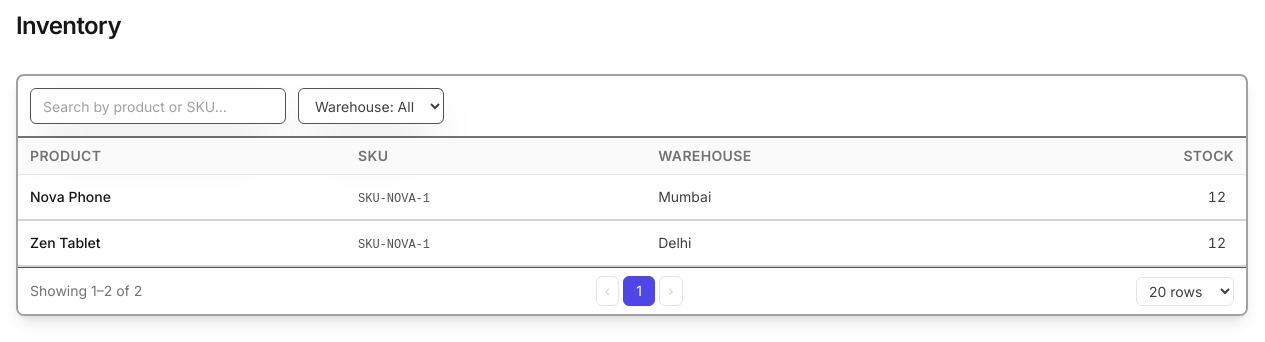
it: InventoryPage › filters by warehouse
The image size is (1265, 342).
Expected: the text "Nova Phone" is shown, x1=30 y1=188 x2=111 y2=205
Select "Delhi" in the 1st dropdown named "Warehouse" at {"x": 371, "y": 106}, box x1=298 y1=88 x2=444 y2=124
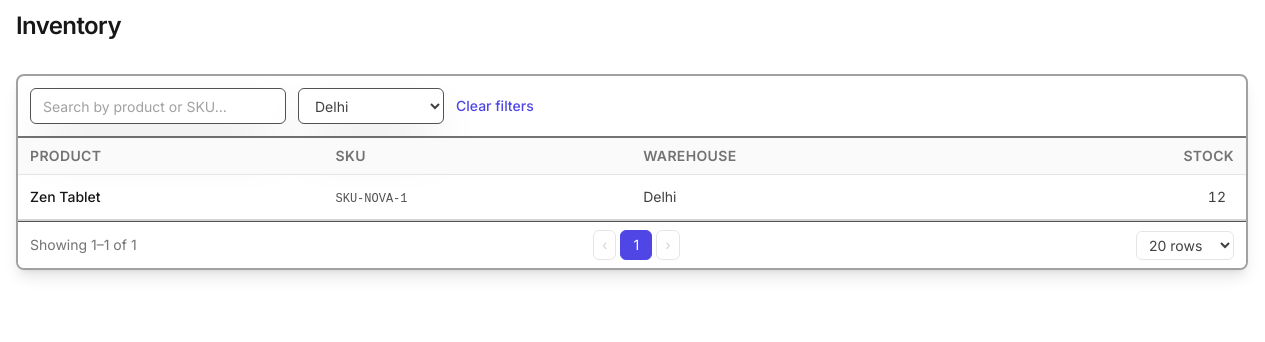
Expected: the text "Zen Tablet" is shown, x1=30 y1=188 x2=101 y2=205
Now the text "Nova Phone" is gone
